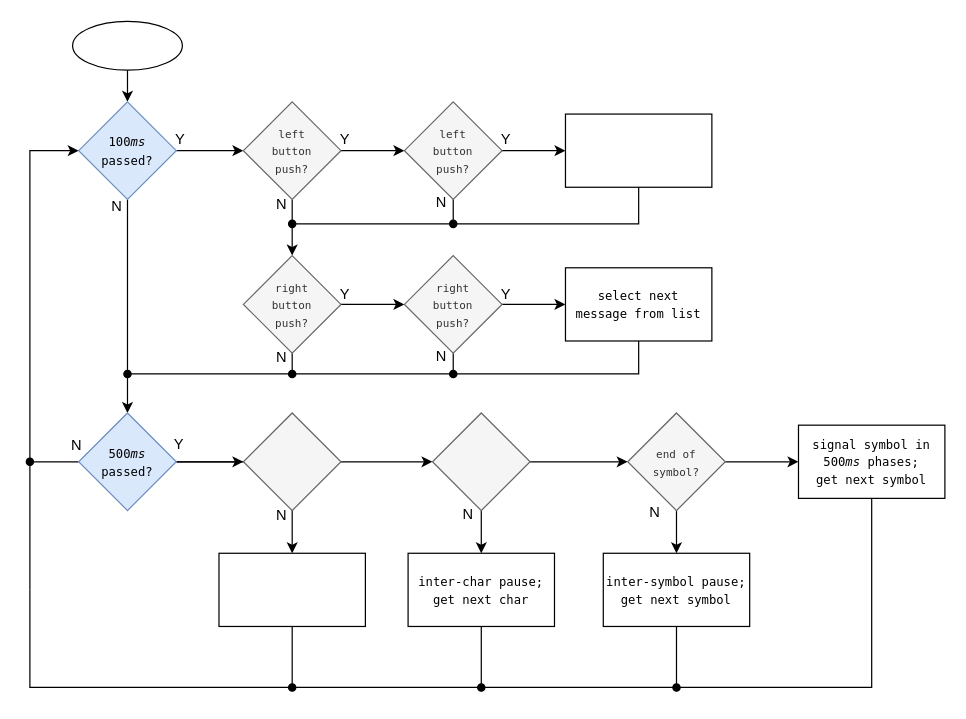
Image size: 966x719. Some labels were removed from this diagram. The centre of each missing label's shape, as x and y in pixels:
"end of character?" goes at pixel 480 461.
"end of message?" goes at pixel 291 461.
"inter-word pause; get next message" goes at pixel 291 589.
"select previous message from list" goes at pixel 638 150.
"START" goes at pixel 126 45.
